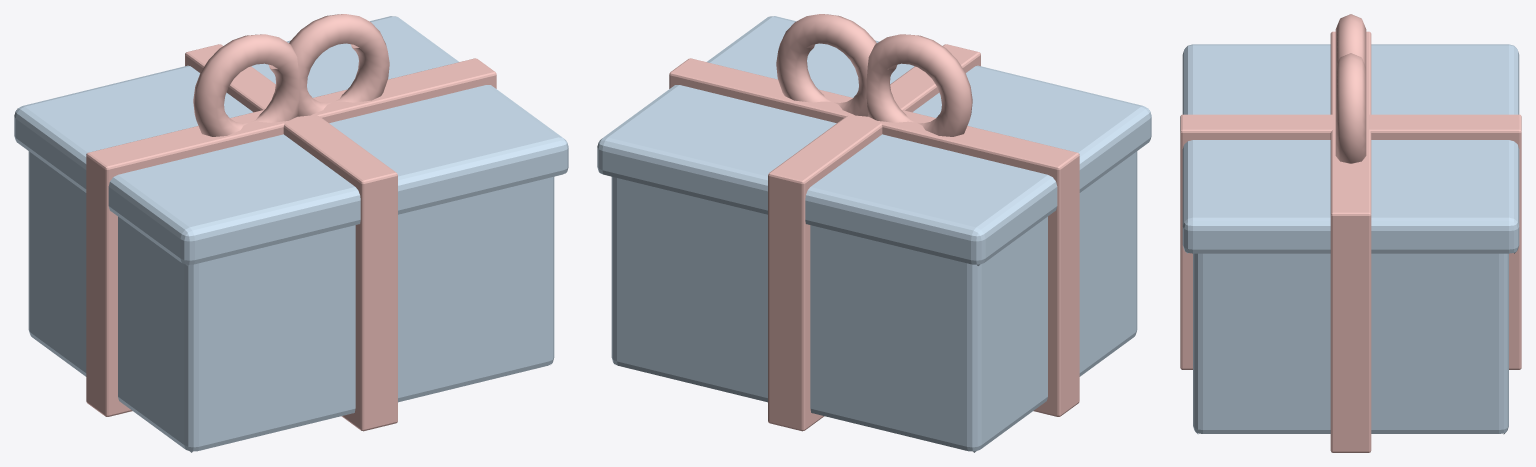
File: box_sky.glb
3 views of the same model, side by side, from view 1: azimuth 30°, elevation 25°; view 2: azimuth 150°, elevation 25°; view 3: azimuth 270°, elevation 25° (orthographic). The views are drawn at different scales.
Visible parts, largest first — view 1: box_sky_sky, box_sky_coral; view 2: box_sky_sky, box_sky_coral; view 3: box_sky_sky, box_sky_coral.
Boxes of the visible parts, box(x1,y1,x2,y2) form: box_sky_sky: box(14, 16, 568, 452); box_sky_coral: box(86, 14, 496, 431); box_sky_sky: box(597, 16, 1151, 452); box_sky_coral: box(669, 14, 1079, 431); box_sky_sky: box(1182, 44, 1519, 434); box_sky_coral: box(1180, 14, 1521, 452).
Size of the model in its own units: 0.85 by 0.6985 by 0.67.
